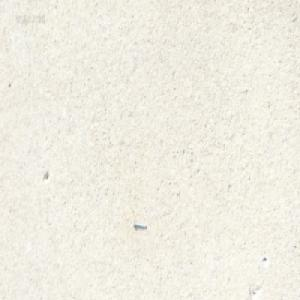Nail: (132, 219, 146, 228)
